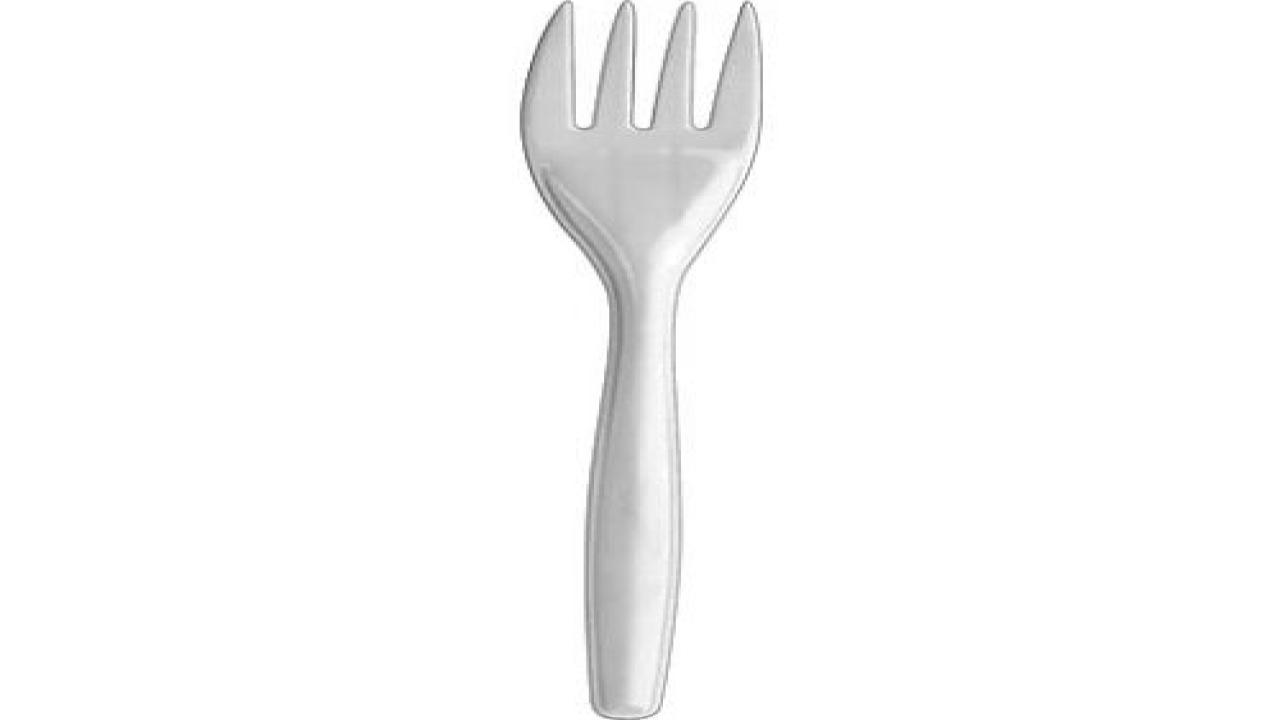fork: (514, 0, 766, 719)
